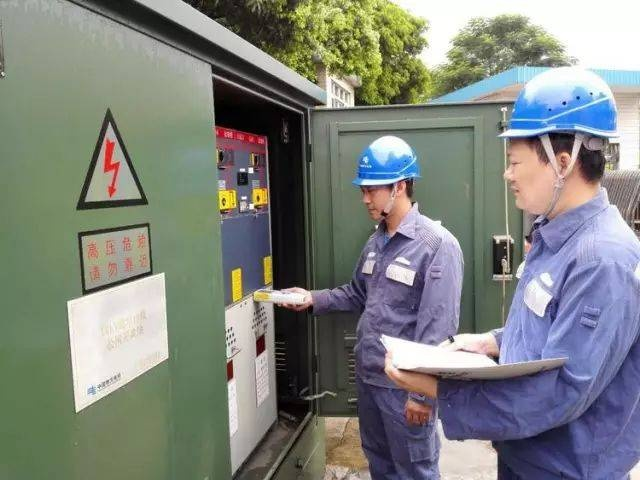blue: (493, 64, 625, 218), (347, 131, 423, 225)
